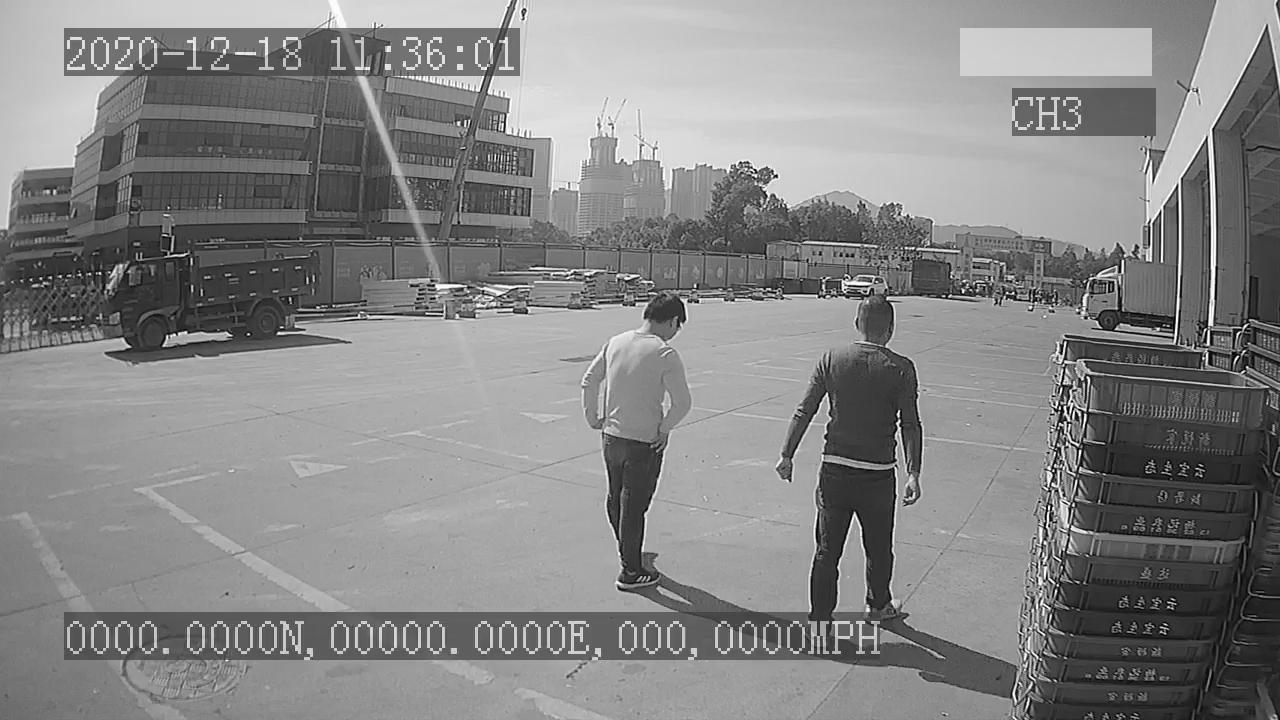person: (578, 292, 695, 590)
